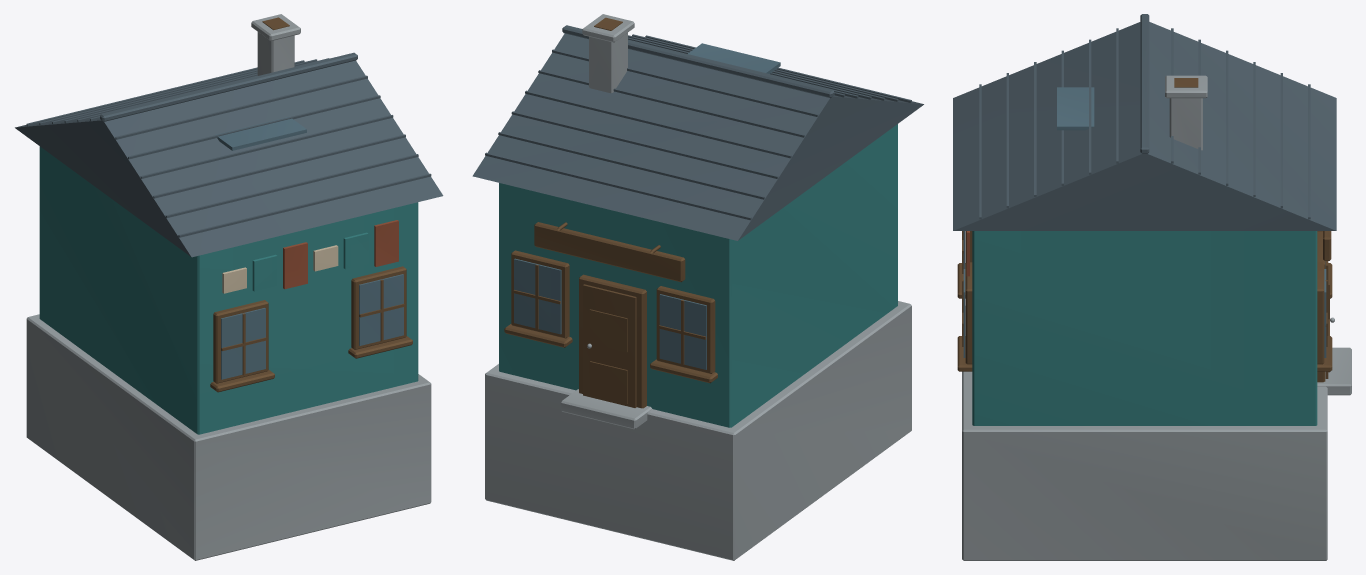
File: house-art.glb
3 views of the same model, side by side, from view 1: azimuth 30°, elevation 25°; view 2: azimuth 150°, elevation 25°; view 3: azimuth 270°, elevation 25° (orthographic). The views are drawn at different scales.
Parts seen in each view (by area): view 1: house walls, stone foundation, pitched roof, window glass, chimney opening, mural color panel.002, mural color panel; view 2: stone foundation, pitched roof, house walls, chimney opening, window glass; view 3: house walls, pitched roof, stone foundation, chimney opening, window glass.
Boxes of the visible parts, x1,y1,x2,y2 form: house walls: [39, 146, 418, 434]; stone foundation: [26, 14, 431, 560]; pitched roof: [15, 52, 443, 257]; window glass: [215, 116, 403, 379]; chimney opening: [210, 17, 412, 392]; mural color panel.002: [283, 220, 398, 289]; mural color panel: [222, 245, 338, 293]; stone foundation: [485, 14, 911, 560]; pitched roof: [472, 25, 923, 240]; house walls: [499, 124, 897, 427]; chimney opening: [504, 17, 717, 408]; window glass: [514, 43, 780, 369]; house walls: [972, 231, 1317, 425]; pitched roof: [953, 14, 1336, 230]; stone foundation: [962, 75, 1351, 560]; chimney opening: [957, 78, 1332, 382]; window glass: [963, 87, 1326, 357].
Size of the model in its own units: 4.63 by 7.22 by 5.78.
